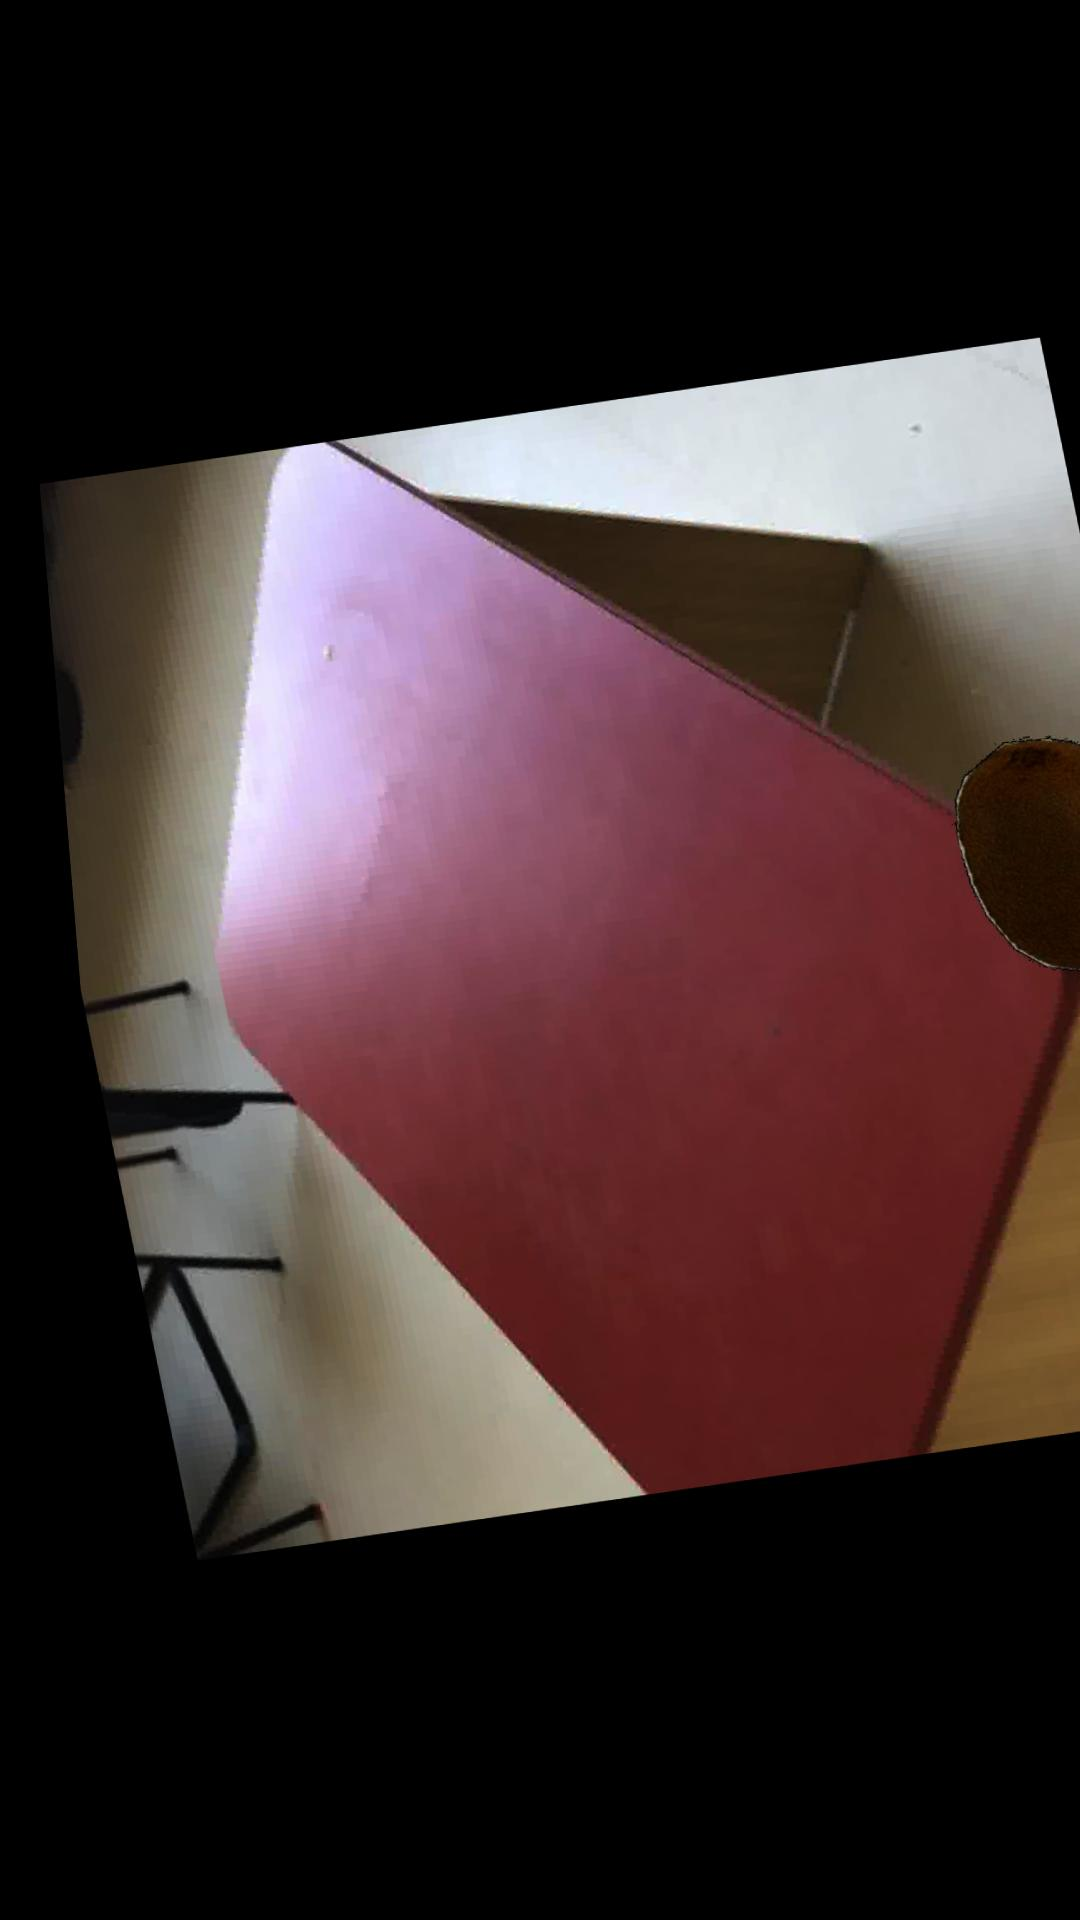kiwi: (938, 741, 1080, 980)
